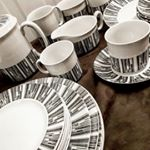cups: (103, 18, 150, 80), (31, 38, 85, 84)
